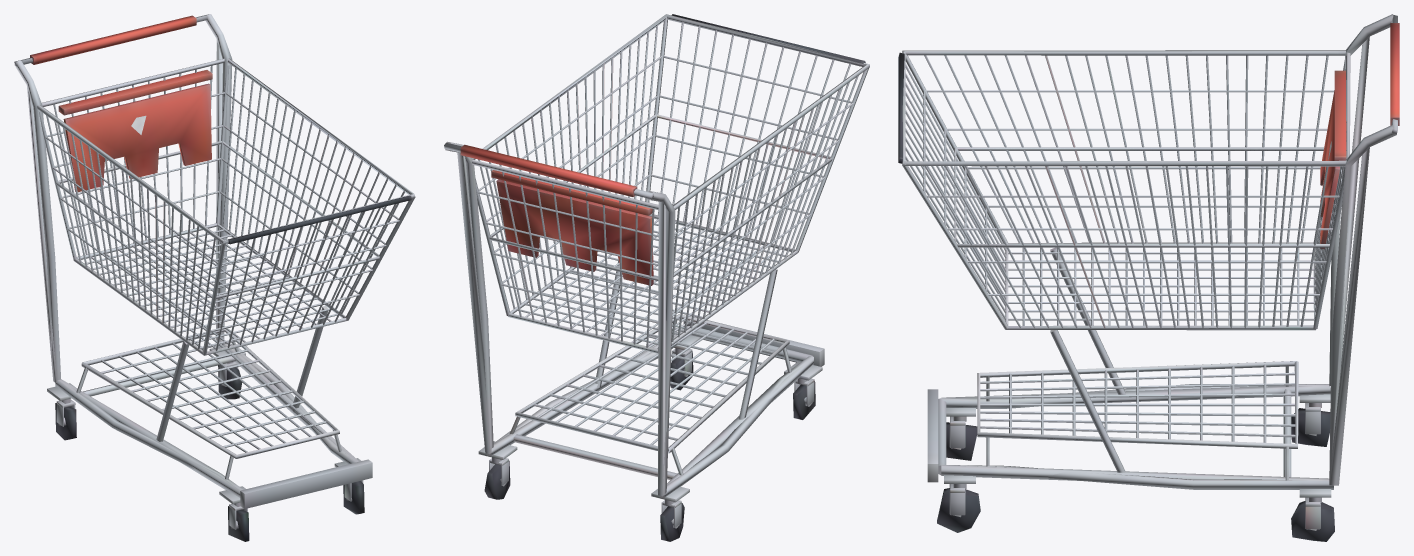
The model's file is g3d_shopping_cart.glb.
The picture shows the model from 3 angles, left to right: view 1: azimuth 30°, elevation 25°; view 2: azimuth 150°, elevation 25°; view 3: azimuth 270°, elevation 25°; orthographic projection. The views are drawn at different scales.
Parts seen in each view (by area): view 1: shopping-cart_body_lo, shopping-cart_body; view 2: shopping-cart_body_lo, shopping-cart_body; view 3: shopping-cart_body_lo, shopping-cart_body.
Boxes of the visible parts, left/top/right/bottom form: shopping-cart_body_lo: left=14, top=14, right=415, bottom=541; shopping-cart_body: left=14, top=14, right=414, bottom=540; shopping-cart_body_lo: left=444, top=14, right=869, bottom=527; shopping-cart_body: left=444, top=16, right=869, bottom=541; shopping-cart_body_lo: left=898, top=14, right=1399, bottom=541; shopping-cart_body: left=898, top=15, right=1399, bottom=541.
Bounding box in the file's own units: 0.5809 × 1.01 × 1.07.
1 material, 1 textured.
